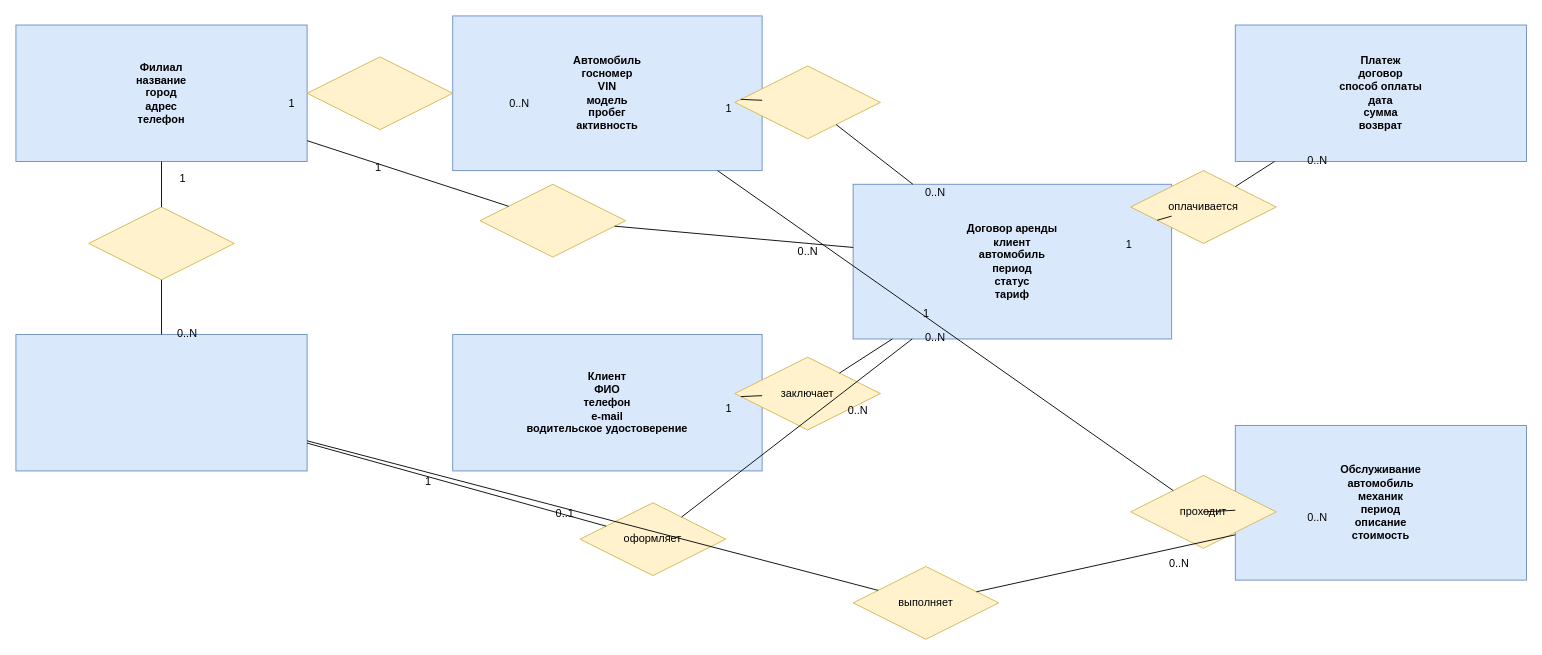
The diagram is 1542 pixels wide and 655 high, and some of its shapes have lost their labels. The centre of each missing label's shape, as x and y in pixels:
"выдача/возврат" goes at pixel 552 220.
"работает в" goes at pixel 161 243.
"размещает" goes at pixel 379 93.
"сдается по" goes at pixel 807 102.
"Сотрудник ФИО роль телефон даты работы" goes at pixel 161 402.
